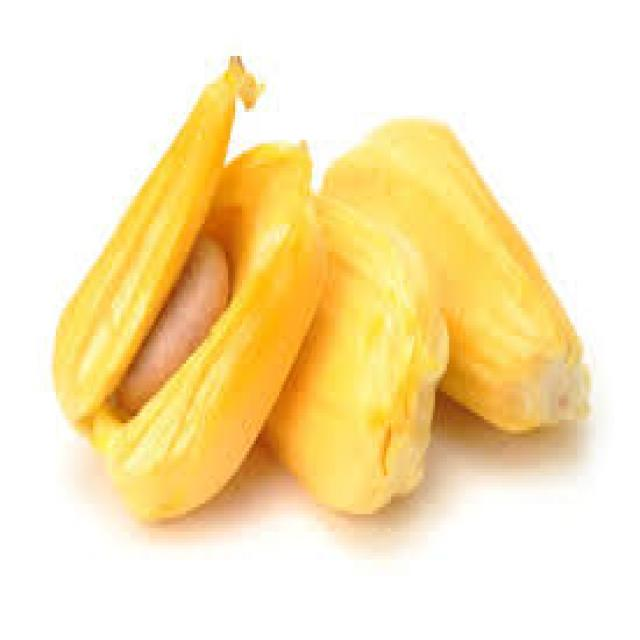organic waste: (49, 49, 321, 521), (316, 115, 586, 427), (268, 185, 449, 514), (112, 234, 230, 413)
